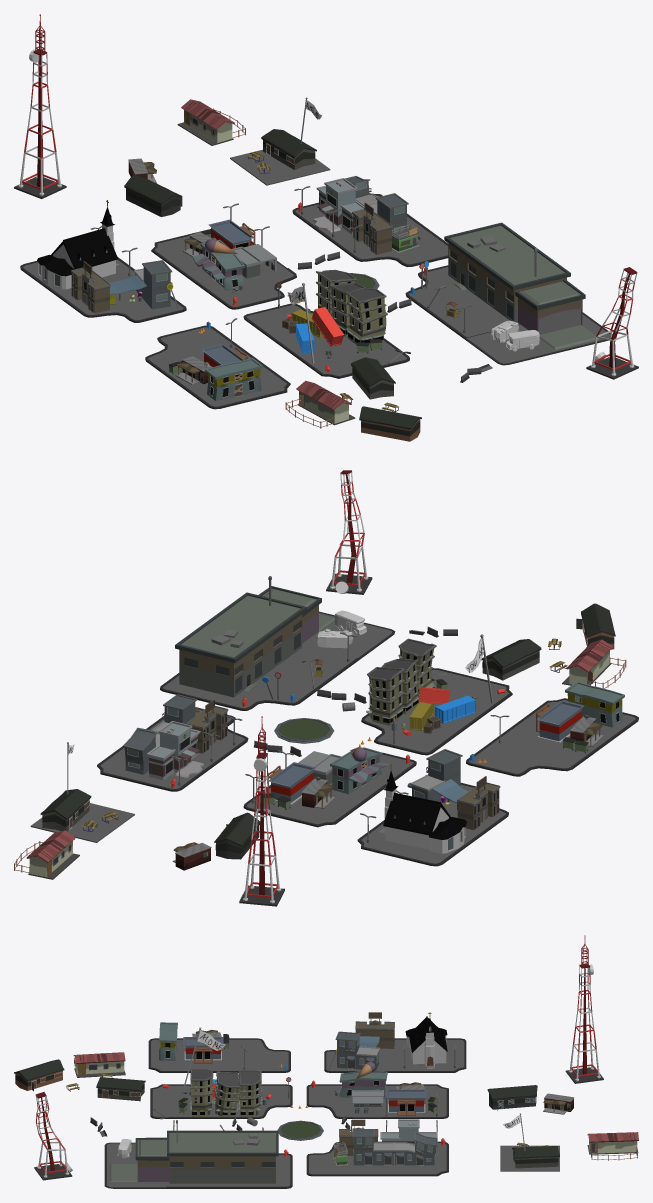
Rendered from midtown4.fbx.
The picture shows the model from 3 angles, top to bottom: view 1: azimuth 30°, elevation 25°; view 2: azimuth 150°, elevation 25°; view 3: azimuth 270°, elevation 25°; orthographic projection. The views are drawn at different scales.
Visible parts, largest first — view 1: Plane.001, Cube.003, Plane.007, Cube.021, ground.001, Plane.005, ground.002, build3.002, Cone.001, HOSPITAL, Cylinder.001, Cylinder.021 (+18 smaller); view 2: Plane.001, Cube.003, Plane.007, Cube.021, ground.001, Plane.005, HOSPITAL, ground.002, build3, Cylinder.001, Cone, Cone.001 (+21 smaller); view 3: Plane.001, Cube.003, Plane.007, Plane.005, ground.001, Cube.021, ground.002, build4.001, Cylinder.001, build4.002, Cylinder.021, build4 (+19 smaller).
Part boxes in pixels (x1,y1,x2,y2): Plane.001: [151, 193, 612, 378]; Cube.003: [444, 222, 599, 349]; Plane.007: [145, 325, 290, 409]; Cube.021: [37, 200, 119, 289]; ground.001: [14, 14, 66, 198]; Plane.005: [20, 257, 186, 322]; ground.002: [586, 267, 638, 379]; build3.002: [345, 287, 387, 345]; Cone.001: [205, 358, 262, 400]; HOSPITAL: [313, 178, 364, 234]; Cylinder.001: [177, 99, 245, 145]; Cylinder.021: [285, 380, 355, 428]; Plane.001: [97, 611, 512, 827]; Cube.003: [175, 576, 334, 697]; Plane.007: [466, 698, 638, 776]; Cube.021: [378, 763, 466, 853]; ground.001: [239, 716, 284, 906]; Plane.005: [357, 782, 508, 866]; HOSPITAL: [146, 721, 203, 780]; ground.002: [326, 470, 372, 594]; build3: [366, 667, 404, 725]; Cylinder.001: [14, 830, 79, 879]; Cone: [330, 747, 390, 794]; Cone.001: [565, 681, 624, 727]; Plane.001: [104, 1084, 448, 1188]; Cube.003: [109, 1120, 278, 1183]; Plane.007: [148, 1038, 290, 1072]; Plane.005: [324, 1038, 466, 1072]; ground.001: [565, 935, 603, 1083]; Cube.021: [405, 1012, 447, 1068]; ground.002: [34, 1091, 72, 1180]; build4.001: [352, 1129, 394, 1165]; Cylinder.001: [587, 1132, 638, 1160]; build4.002: [335, 1031, 379, 1070]; Cylinder.021: [73, 1052, 125, 1077]; build4: [394, 1132, 437, 1165].
Bounding box in the file's own units: 7809 × 3486 × 13813.
